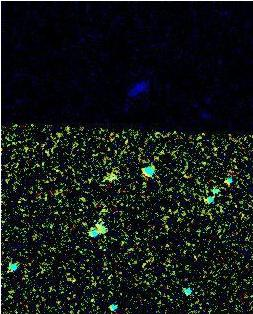star: (72, 283, 102, 313)
